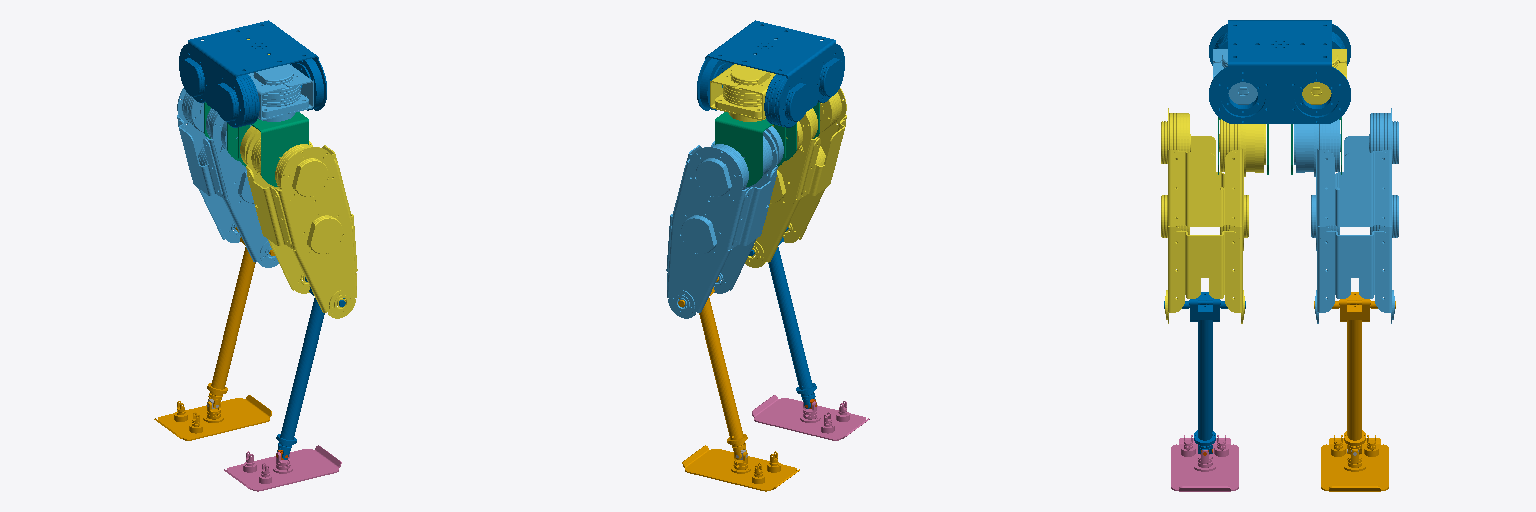
robot.urdf — test_inverted_10:
<?xml version="1.0" ?>
<robot name="test_inverted_10" xmlns:xacro="http://www.ros.org/wiki/xacro">

  <link name="base_link">
    <inertial>
      <origin xyz="-0.019087675935812218 0.09999915136451387 -0.5831036203822739" rpy="0 0 0"/>
      <mass value="0.1444156499617652"/>
      <inertia ixx="8.1e-05" iyy="0.000251" izz="0.000324" ixy="-0.0" iyz="-0.0" ixz="5e-06"/>
    </inertial>
    <visual>
      <origin xyz="0 0 0" rpy="0 0 0"/>
      <geometry>
        <mesh filename="meshes/base_link.stl" scale="0.001 0.001 0.001"/>
      </geometry>
      <material name="silver"/>
    </visual>
    <collision>
      <origin xyz="0 0 0" rpy="0 0 0"/>
      <geometry>
        <mesh filename="meshes/base_link.stl" scale="0.001 0.001 0.001"/>
      </geometry>
    </collision>
  </link>

  <link name="r_hip_yaw_1">
    <inertial>
      <origin xyz="0.044592208230001894 3.355093980417223e-13 -0.0016473322955735462" rpy="0 0 0"/>
      <mass value="0.8119924047866209"/>
      <inertia ixx="0.00056" iyy="0.000609" izz="0.000712" ixy="0.0" iyz="-0.0" ixz="-2e-06"/>
    </inertial>
    <visual>
      <origin xyz="0.04236 0.049 0.005" rpy="0 0 0"/>
      <geometry>
        <mesh filename="meshes/r_hip_yaw_1.stl" scale="0.001 0.001 0.001"/>
      </geometry>
      <material name="silver"/>
    </visual>
    <collision>
      <origin xyz="0.04236 0.049 0.005" rpy="0 0 0"/>
      <geometry>
        <mesh filename="meshes/r_hip_yaw_1.stl" scale="0.001 0.001 0.001"/>
      </geometry>
    </collision>
  </link>

  <link name="r_hip_pitch_1">
    <inertial>
      <origin xyz="-1.714095707243228e-07 -0.0022492126491534675 -0.03225000047076376" rpy="0 0 0"/>
      <mass value="0.09382009482644298"/>
      <inertia ixx="0.000168" iyy="0.000137" izz="0.000133" ixy="-0.0" iyz="-5e-06" ixz="-0.0"/>
    </inertial>
    <visual>
      <origin xyz="-0.00214 0.049 0.0465" rpy="0 0 0"/>
      <geometry>
        <mesh filename="meshes/r_hip_pitch_1.stl" scale="0.001 0.001 0.001"/>
      </geometry>
      <material name="silver"/>
    </visual>
    <collision>
      <origin xyz="-0.00214 0.049 0.0465" rpy="0 0 0"/>
      <geometry>
        <mesh filename="meshes/r_hip_pitch_1.stl" scale="0.001 0.001 0.001"/>
      </geometry>
    </collision>
  </link>

  <link name="r_thigh_1">
    <inertial>
      <origin xyz="0.015452605166383002 -0.013327472395499751 -0.054168951355970524" rpy="0 0 0"/>
      <mass value="2.4192276462424758"/>
      <inertia ixx="0.01249" iyy="0.010396" izz="0.006309" ixy="0.000154" iyz="-0.000601" ixz="0.002029"/>
    </inertial>
    <visual>
      <origin xyz="-0.00214 0.081 0.1015" rpy="0 0 0"/>
      <geometry>
        <mesh filename="meshes/r_thigh_1.stl" scale="0.001 0.001 0.001"/>
      </geometry>
      <material name="silver"/>
    </visual>
    <collision>
      <origin xyz="-0.00214 0.081 0.1015" rpy="0 0 0"/>
      <geometry>
        <mesh filename="meshes/r_thigh_1.stl" scale="0.001 0.001 0.001"/>
      </geometry>
    </collision>
  </link>

  <link name="r_shank_1">
    <inertial>
      <origin xyz="-0.020211429144670966 -1.4671252080156183e-06 -0.08408171871396775" rpy="0 0 0"/>
      <mass value="0.21284837581671115"/>
      <inertia ixx="0.001435" iyy="0.001566" izz="0.000187" ixy="0.0" iyz="0.0" ixz="-0.000442"/>
    </inertial>
    <visual>
      <origin xyz="-0.056072 0.1 0.314787" rpy="0 0 0"/>
      <geometry>
        <mesh filename="meshes/r_shank_1.stl" scale="0.001 0.001 0.001"/>
      </geometry>
      <material name="silver"/>
    </visual>
    <collision>
      <origin xyz="-0.056072 0.1 0.314787" rpy="0 0 0"/>
      <geometry>
        <mesh filename="meshes/r_shank_1.stl" scale="0.001 0.001 0.001"/>
      </geometry>
    </collision>
  </link>

  <link name="r_ankle_1">
    <inertial>
      <origin xyz="-3.5214549278309026e-07 5.132005931329786e-14 -3.6316462526109206e-07" rpy="0 0 0"/>
      <mass value="0.0017857987414545333"/>
      <inertia ixx="5e-06" iyy="5e-06" izz="5e-06" ixy="0.0" iyz="0.0" ixz="-0.0"/>
    </inertial>
    <visual>
      <origin xyz="0.011893 0.1 0.561081" rpy="0 0 0"/>
      <geometry>
        <mesh filename="meshes/r_ankle_1.stl" scale="0.001 0.001 0.001"/>
      </geometry>
      <material name="silver"/>
    </visual>
    <collision>
      <origin xyz="0.011893 0.1 0.561081" rpy="0 0 0"/>
      <geometry>
        <mesh filename="meshes/r_ankle_1.stl" scale="0.001 0.001 0.001"/>
      </geometry>
    </collision>
  </link>

  <link name="r_foot_1">
    <inertial>
      <origin xyz="-0.007193791864195859 3.543669566119512e-08 -0.022022620382273317" rpy="0 0 0"/>
      <mass value="0.14441564996176498"/>
      <inertia ixx="8.1e-05" iyy="0.000251" izz="0.000324" ixy="-0.0" iyz="-0.0" ixz="5e-06"/>
    </inertial>
    <visual>
      <origin xyz="0.011893 0.1 0.561081" rpy="0 0 0"/>
      <geometry>
        <mesh filename="meshes/r_foot_1.stl" scale="0.001 0.001 0.001"/>
      </geometry>
      <material name="silver"/>
    </visual>
    <collision>
      <origin xyz="0.011893 0.1 0.561081" rpy="0 0 0"/>
      <geometry>
        <mesh filename="meshes/r_foot_1.stl" scale="0.001 0.001 0.001"/>
      </geometry>
    </collision>
  </link>

  <link name="l_ankle_1">
    <inertial>
      <origin xyz="-0.007800352145194699 1.1592786870739946e-07 -3.6316462592722587e-07" rpy="0 0 0"/>
      <mass value="0.0017857987414545656"/>
      <inertia ixx="5e-06" iyy="5e-06" izz="5e-06" ixy="0.0" iyz="0.0" ixz="-0.0"/>
    </inertial>
    <visual>
      <origin xyz="0.004093 -0.099999 0.561081" rpy="0 0 0"/>
      <geometry>
        <mesh filename="meshes/l_ankle_1.stl" scale="0.001 0.001 0.001"/>
      </geometry>
      <material name="silver"/>
    </visual>
    <collision>
      <origin xyz="0.004093 -0.099999 0.561081" rpy="0 0 0"/>
      <geometry>
        <mesh filename="meshes/l_ankle_1.stl" scale="0.001 0.001 0.001"/>
      </geometry>
    </collision>
  </link>

  <link name="l_shank_1">
    <inertial>
      <origin xyz="0.047753570856348404 0.007799532874524839 0.16221228128872112" rpy="0 0 0"/>
      <mass value="0.21284837581671107"/>
      <inertia ixx="0.001435" iyy="0.001566" izz="0.000187" ixy="0.0" iyz="0.0" ixz="-0.000442"/>
    </inertial>
    <visual>
      <origin xyz="0.011893 -0.092199 0.561081" rpy="0 0 0"/>
      <geometry>
        <mesh filename="meshes/l_shank_1.stl" scale="0.001 0.001 0.001"/>
      </geometry>
      <material name="silver"/>
    </visual>
    <collision>
      <origin xyz="0.011893 -0.092199 0.561081" rpy="0 0 0"/>
      <geometry>
        <mesh filename="meshes/l_shank_1.stl" scale="0.001 0.001 0.001"/>
      </geometry>
    </collision>
  </link>

  <link name="l_thigh_1">
    <inertial>
      <origin xyz="-0.038479394832983335 0.043327472394746 0.15911804863560236" rpy="0 0 0"/>
      <mass value="2.4192276463978106"/>
      <inertia ixx="0.01249" iyy="0.010396" izz="0.006309" ixy="-0.000154" iyz="0.000601" ixz="0.002029"/>
    </inertial>
    <visual>
      <origin xyz="-0.056072 -0.051 0.314787" rpy="0 0 0"/>
      <geometry>
        <mesh filename="meshes/l_thigh_1.stl" scale="0.001 0.001 0.001"/>
      </geometry>
      <material name="silver"/>
    </visual>
    <collision>
      <origin xyz="-0.056072 -0.051 0.314787" rpy="0 0 0"/>
      <geometry>
        <mesh filename="meshes/l_thigh_1.stl" scale="0.001 0.001 0.001"/>
      </geometry>
    </collision>
  </link>

  <link name="l_hip_pitch_1">
    <inertial>
      <origin xyz="-1.7140929809648237e-07 -0.029750787350848865 0.0227499995293427" rpy="0 0 0"/>
      <mass value="0.09382009482644237"/>
      <inertia ixx="0.000168" iyy="0.000137" izz="0.000133" ixy="0.0" iyz="5e-06" ixz="0.0"/>
    </inertial>
    <visual>
      <origin xyz="-0.00214 -0.081 0.1015" rpy="0 0 0"/>
      <geometry>
        <mesh filename="meshes/l_hip_pitch_1.stl" scale="0.001 0.001 0.001"/>
      </geometry>
      <material name="silver"/>
    </visual>
    <collision>
      <origin xyz="-0.00214 -0.081 0.1015" rpy="0 0 0"/>
      <geometry>
        <mesh filename="meshes/l_hip_pitch_1.stl" scale="0.001 0.001 0.001"/>
      </geometry>
    </collision>
  </link>

  <link name="l_hip_yaw_1">
    <inertial>
      <origin xyz="9.220823027462693e-05 -3.4167807472229583e-13 0.039852667704426546" rpy="0 0 0"/>
      <mass value="0.8119924047866205"/>
      <inertia ixx="0.00056" iyy="0.000609" izz="0.000712" ixy="-0.0" iyz="0.0" ixz="-2e-06"/>
    </inertial>
    <visual>
      <origin xyz="-0.00214 -0.049 0.0465" rpy="0 0 0"/>
      <geometry>
        <mesh filename="meshes/l_hip_yaw_1.stl" scale="0.001 0.001 0.001"/>
      </geometry>
      <material name="silver"/>
    </visual>
    <collision>
      <origin xyz="-0.00214 -0.049 0.0465" rpy="0 0 0"/>
      <geometry>
        <mesh filename="meshes/l_hip_yaw_1.stl" scale="0.001 0.001 0.001"/>
      </geometry>
    </collision>
  </link>

  <link name="bipedal_floating_1">
    <inertial>
      <origin xyz="0.013224241969873977 -0.04900000000341284 0.004430089785499109" rpy="0 0 0"/>
      <mass value="1.1534250755587985"/>
      <inertia ixx="0.00373" iyy="0.003678" izz="0.006137" ixy="-0.0" iyz="-0.0" ixz="-0.000116"/>
    </inertial>
    <visual>
      <origin xyz="0.04236 -0.049 0.005" rpy="0 0 0"/>
      <geometry>
        <mesh filename="meshes/bipedal_floating_1.stl" scale="0.001 0.001 0.001"/>
      </geometry>
      <material name="silver"/>
    </visual>
    <collision>
      <origin xyz="0.04236 -0.049 0.005" rpy="0 0 0"/>
      <geometry>
        <mesh filename="meshes/bipedal_floating_1.stl" scale="0.001 0.001 0.001"/>
      </geometry>
    </collision>
  </link>

  <joint name="R_Hip_Roll" type="continuous">
    <origin xyz="0.0 -0.098 0.0" rpy="0 0 0"/>
    <parent link="bipedal_floating_1"/>
    <child link="r_hip_yaw_1"/>
    <axis xyz="1.0 0.0 0.0"/>
  </joint>

  <joint name="R_Hip_Yaw" type="continuous">
    <origin xyz="0.0445 0.0 -0.0415" rpy="0 0 0"/>
    <parent link="r_hip_yaw_1"/>
    <child link="r_hip_pitch_1"/>
    <axis xyz="0.0 0.0 1.0"/>
  </joint>

  <joint name="R_Hip_Pitch" type="continuous">
    <origin xyz="0.0 -0.032 -0.055" rpy="0 0 0"/>
    <parent link="r_hip_pitch_1"/>
    <child link="r_thigh_1"/>
    <axis xyz="0.0 1.0 0.0"/>
  </joint>

  <joint name="R_Knee_Pitch" type="continuous">
    <origin xyz="0.053932 -0.019 -0.213287" rpy="0 0 0"/>
    <parent link="r_thigh_1"/>
    <child link="r_shank_1"/>
    <axis xyz="0.0 1.0 0.0"/>
  </joint>

  <joint name="R_Ankle_Pitch" type="fixed">
    <origin xyz="-0.067965 0.0 -0.246294" rpy="0 0 0"/>
    <parent link="r_shank_1"/>
    <child link="r_ankle_1"/>
  </joint>

  <joint name="R_Ankle_Roll" type="fixed">
    <origin xyz="0.0 0.0 0.0" rpy="0 0 0"/>
    <parent link="r_ankle_1"/>
    <child link="r_foot_1"/>
  </joint>

  <joint name="L_Ankle_Roll" type="continuous">
    <origin xyz="-0.004093 0.099999 -0.561081" rpy="0 0 0"/>
    <parent link="base_link"/>
    <child link="l_ankle_1"/>
    <axis xyz="1.0 0.0 0.0"/>
  </joint>

  <joint name="L_Ankle_Pitch" type="continuous">
    <origin xyz="-0.0078 -0.0078 0.0" rpy="0 0 0"/>
    <parent link="l_ankle_1"/>
    <child link="l_shank_1"/>
    <axis xyz="0.0 1.0 0.0"/>
  </joint>

  <joint name="L_Knee_Pitch" type="continuous">
    <origin xyz="0.067965 -0.041199 0.246294" rpy="0 0 0"/>
    <parent link="l_shank_1"/>
    <child link="l_thigh_1"/>
    <axis xyz="0.0 1.0 0.0"/>
  </joint>

  <joint name="L_Hip_Pitch" type="continuous">
    <origin xyz="-0.053932 0.03 0.213287" rpy="0 0 0"/>
    <parent link="l_thigh_1"/>
    <child link="l_hip_pitch_1"/>
    <axis xyz="0.0 1.0 0.0"/>
  </joint>

  <joint name="L_Hip_Yaw" type="continuous">
    <origin xyz="0.0 -0.032 0.055" rpy="0 0 0"/>
    <parent link="l_hip_pitch_1"/>
    <child link="l_hip_yaw_1"/>
    <axis xyz="0.0 0.0 1.0"/>
  </joint>

  <joint name="L_Hip_Roll" type="continuous">
    <origin xyz="-0.0445 0.0 0.0415" rpy="0 0 0"/>
    <parent link="l_hip_yaw_1"/>
    <child link="bipedal_floating_1"/>
    <axis xyz="1.0 0.0 0.0"/>
  </joint>

</robot>

--- Facts derived from the render (not from the file) ---
Views: 3 orthographic renders of the robot side by side, from view 1: azimuth 30°, elevation 25°; view 2: azimuth 150°, elevation 25°; view 3: azimuth 270°, elevation 25°.
Robot: test_inverted_10 — 13 links, 12 joints (10 continuous, 2 fixed); root link base_link; default pose: every joint at zero.
Visible links, largest first — view 1: r_thigh_1, bipedal_floating_1, l_thigh_1, r_foot_1, base_link, r_hip_yaw_1, r_hip_pitch_1, r_shank_1, l_shank_1; view 2: l_thigh_1, bipedal_floating_1, r_thigh_1, base_link, r_foot_1, l_hip_yaw_1, l_hip_pitch_1, l_shank_1, r_shank_1; view 3: r_thigh_1, l_thigh_1, bipedal_floating_1, base_link, r_foot_1, r_shank_1, l_shank_1, l_hip_yaw_1, r_hip_yaw_1.
Boxes of the visible links, x1,y1,x2,y2 form: r_thigh_1: [240, 126, 357, 318]; bipedal_floating_1: [179, 20, 326, 127]; l_thigh_1: [177, 88, 278, 267]; r_foot_1: [224, 445, 341, 491]; base_link: [154, 395, 271, 440]; r_hip_yaw_1: [248, 64, 313, 121]; r_hip_pitch_1: [238, 112, 308, 186]; r_shank_1: [276, 277, 345, 459]; l_shank_1: [207, 227, 274, 408]; l_thigh_1: [666, 126, 783, 318]; bipedal_floating_1: [697, 20, 844, 127]; r_thigh_1: [745, 88, 846, 267]; base_link: [682, 445, 799, 491]; r_foot_1: [752, 395, 869, 440]; l_hip_yaw_1: [710, 64, 775, 121]; l_hip_pitch_1: [715, 112, 785, 186]; l_shank_1: [678, 277, 747, 459]; r_shank_1: [749, 227, 816, 408]; r_thigh_1: [1161, 108, 1265, 323]; l_thigh_1: [1294, 108, 1398, 323]; bipedal_floating_1: [1209, 20, 1350, 123]; base_link: [1321, 435, 1388, 491]; r_foot_1: [1171, 435, 1238, 491]; r_shank_1: [1164, 292, 1245, 453]; l_shank_1: [1314, 292, 1395, 453]; l_hip_yaw_1: [1302, 49, 1346, 104]; r_hip_yaw_1: [1213, 49, 1257, 104].
Size in the robot's own frame: 0.1927 by 0.317 by 0.6321 metres.
Meshes: 13 distinct files referenced, 13 mesh visuals loaded (13 binary STL).
